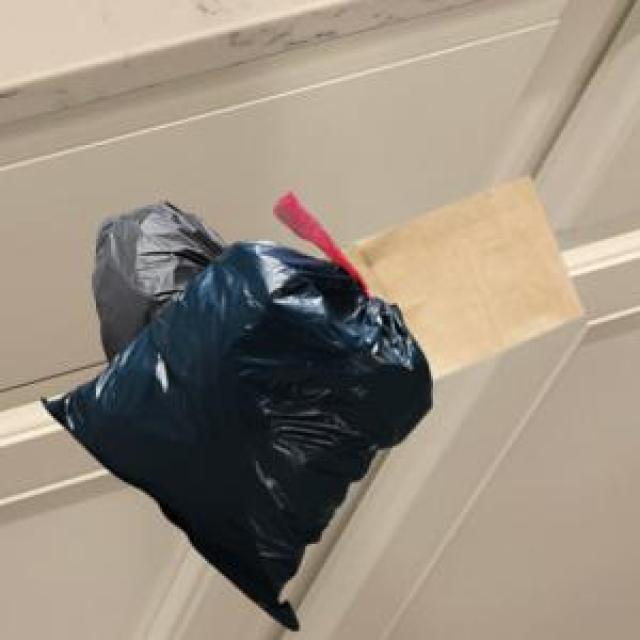miscellaneous trash: (38, 188, 427, 627), (88, 198, 224, 361)
paper: (335, 173, 578, 376)
